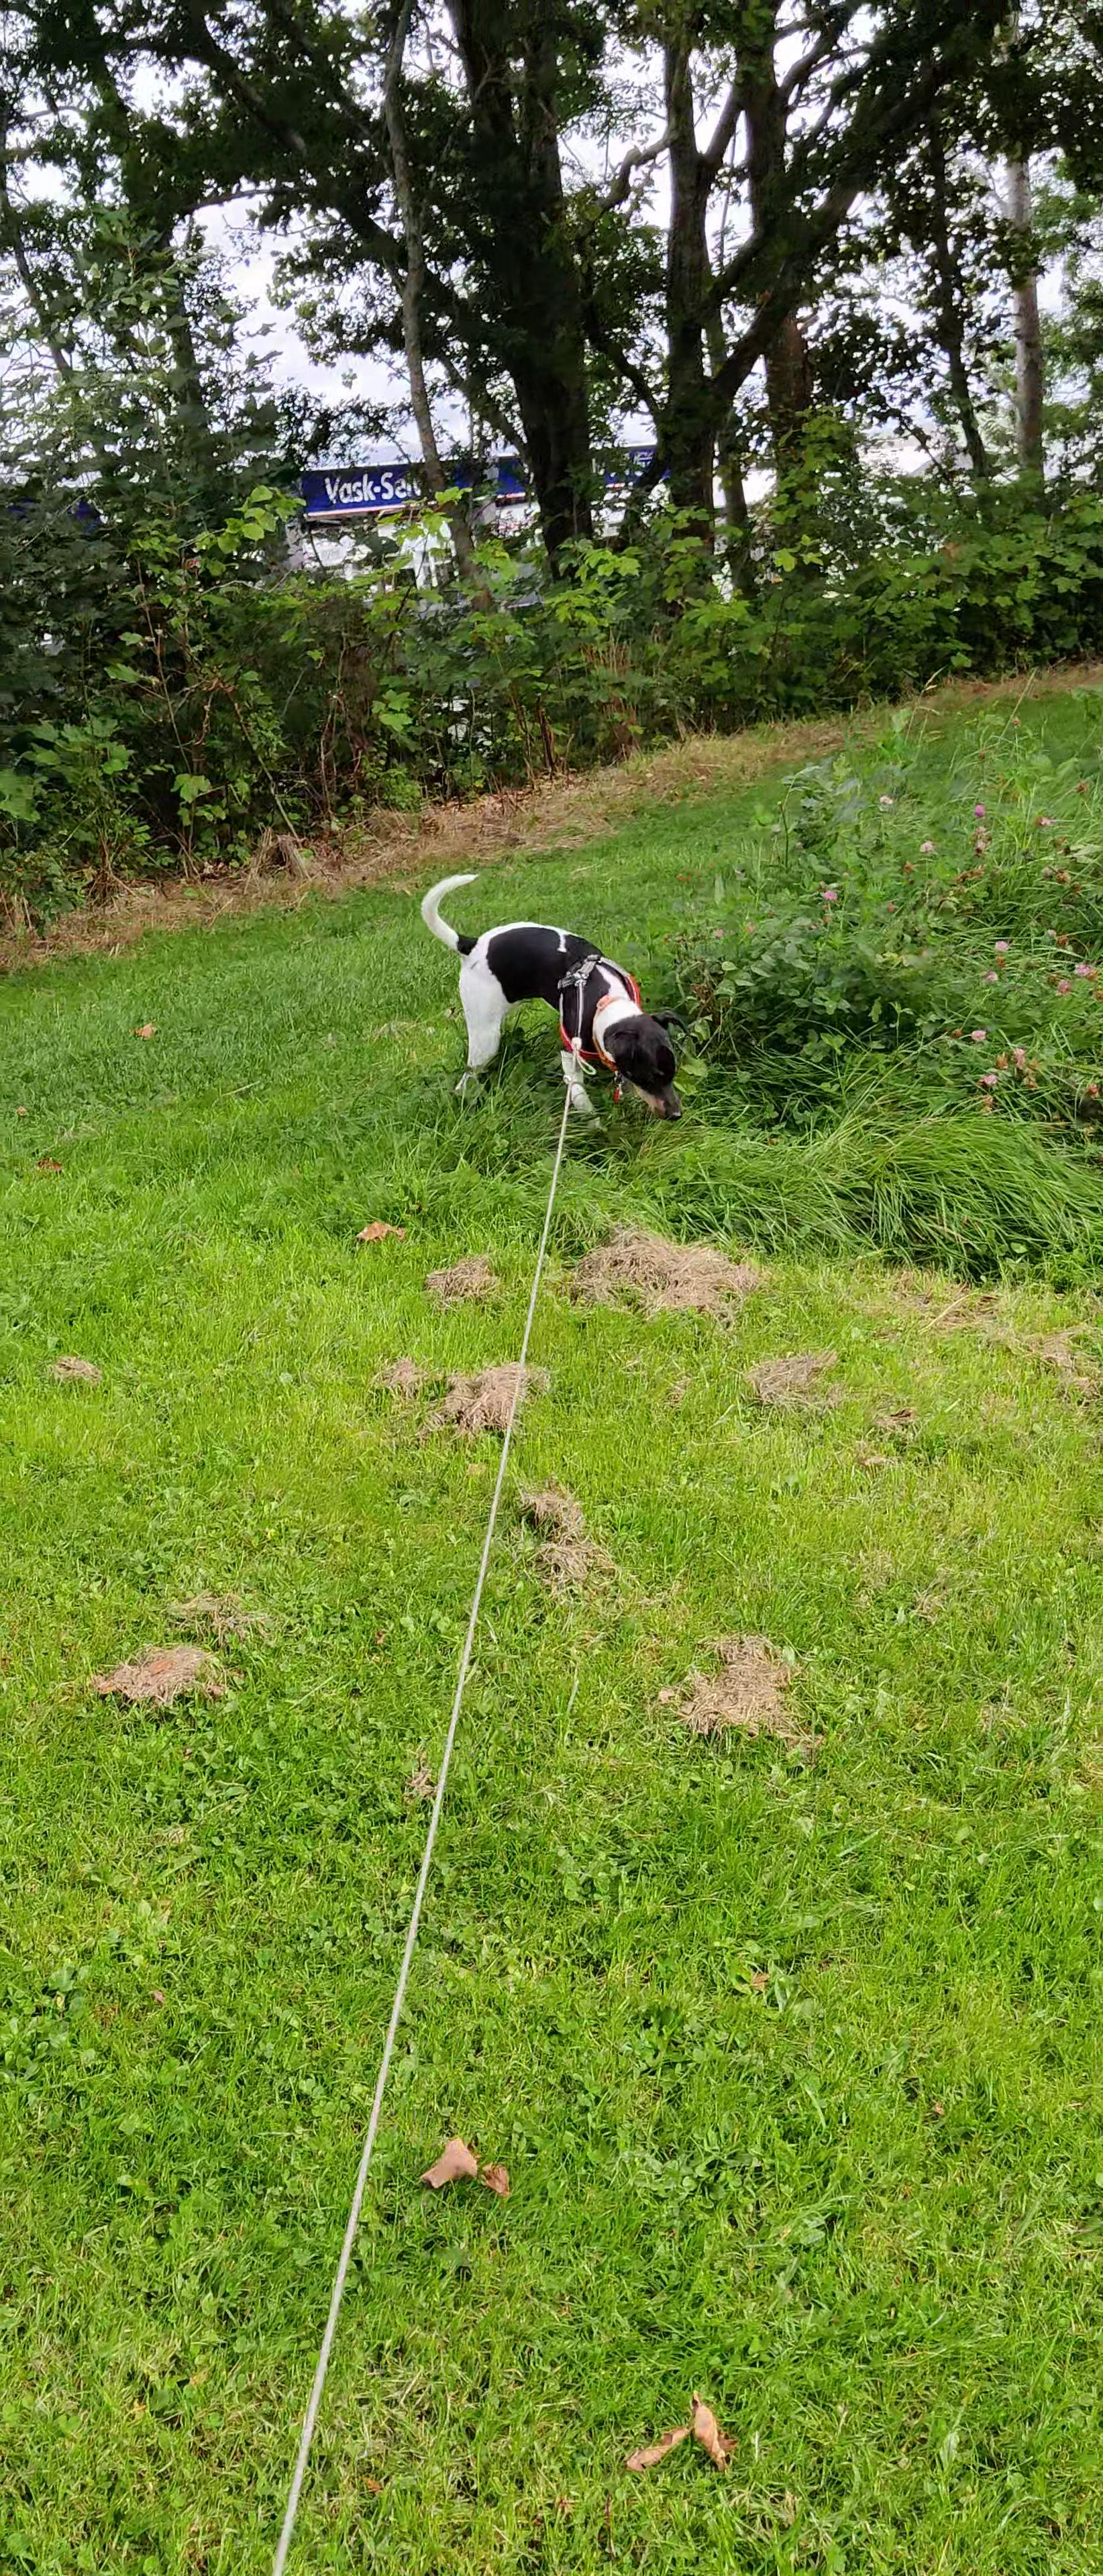Dog: (418, 861, 704, 1134)
